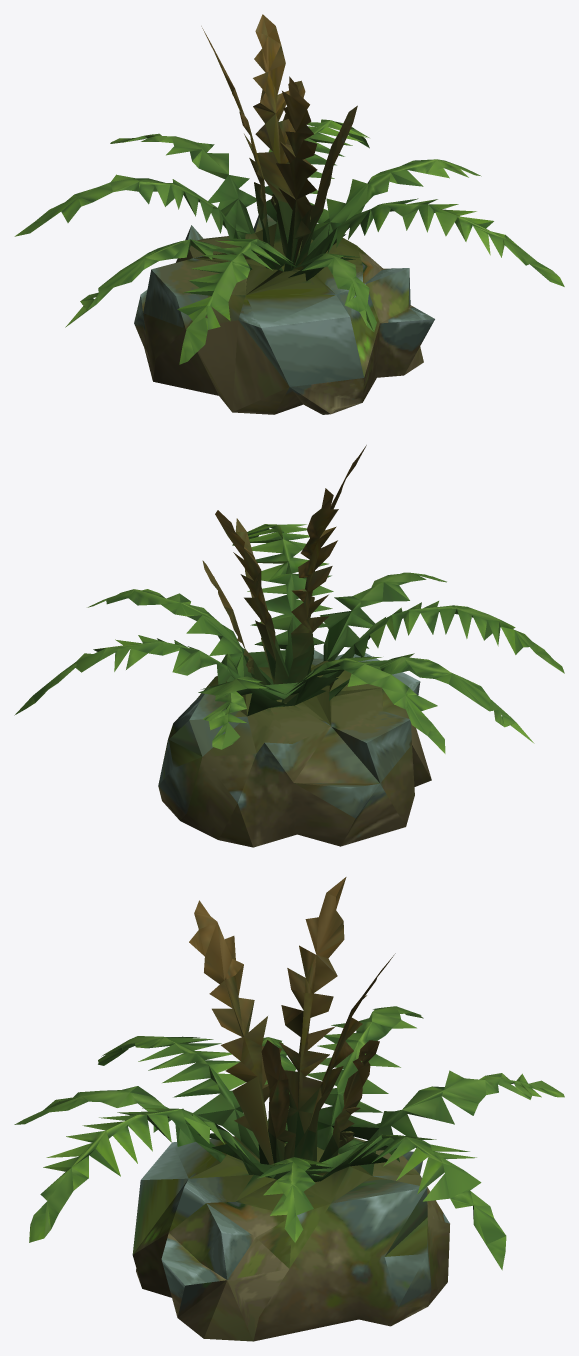
3 renders of one model, top to bottom at view 1: azimuth 30°, elevation 25°; view 2: azimuth 150°, elevation 25°; view 3: azimuth 270°, elevation 25°, orthographic. The views are drawn at different scales.
Parts seen in each view (by area): view 1: fern; view 2: fern; view 3: fern.
Part boxes in pixels (x1,y1,x2,y2): fern: [14, 14, 564, 414]; fern: [14, 445, 564, 847]; fern: [14, 877, 564, 1341].
Bounding box in the file's own units: 0.9428 × 0.6955 × 0.9249.
Materials: 1 (1 with a texture image).
